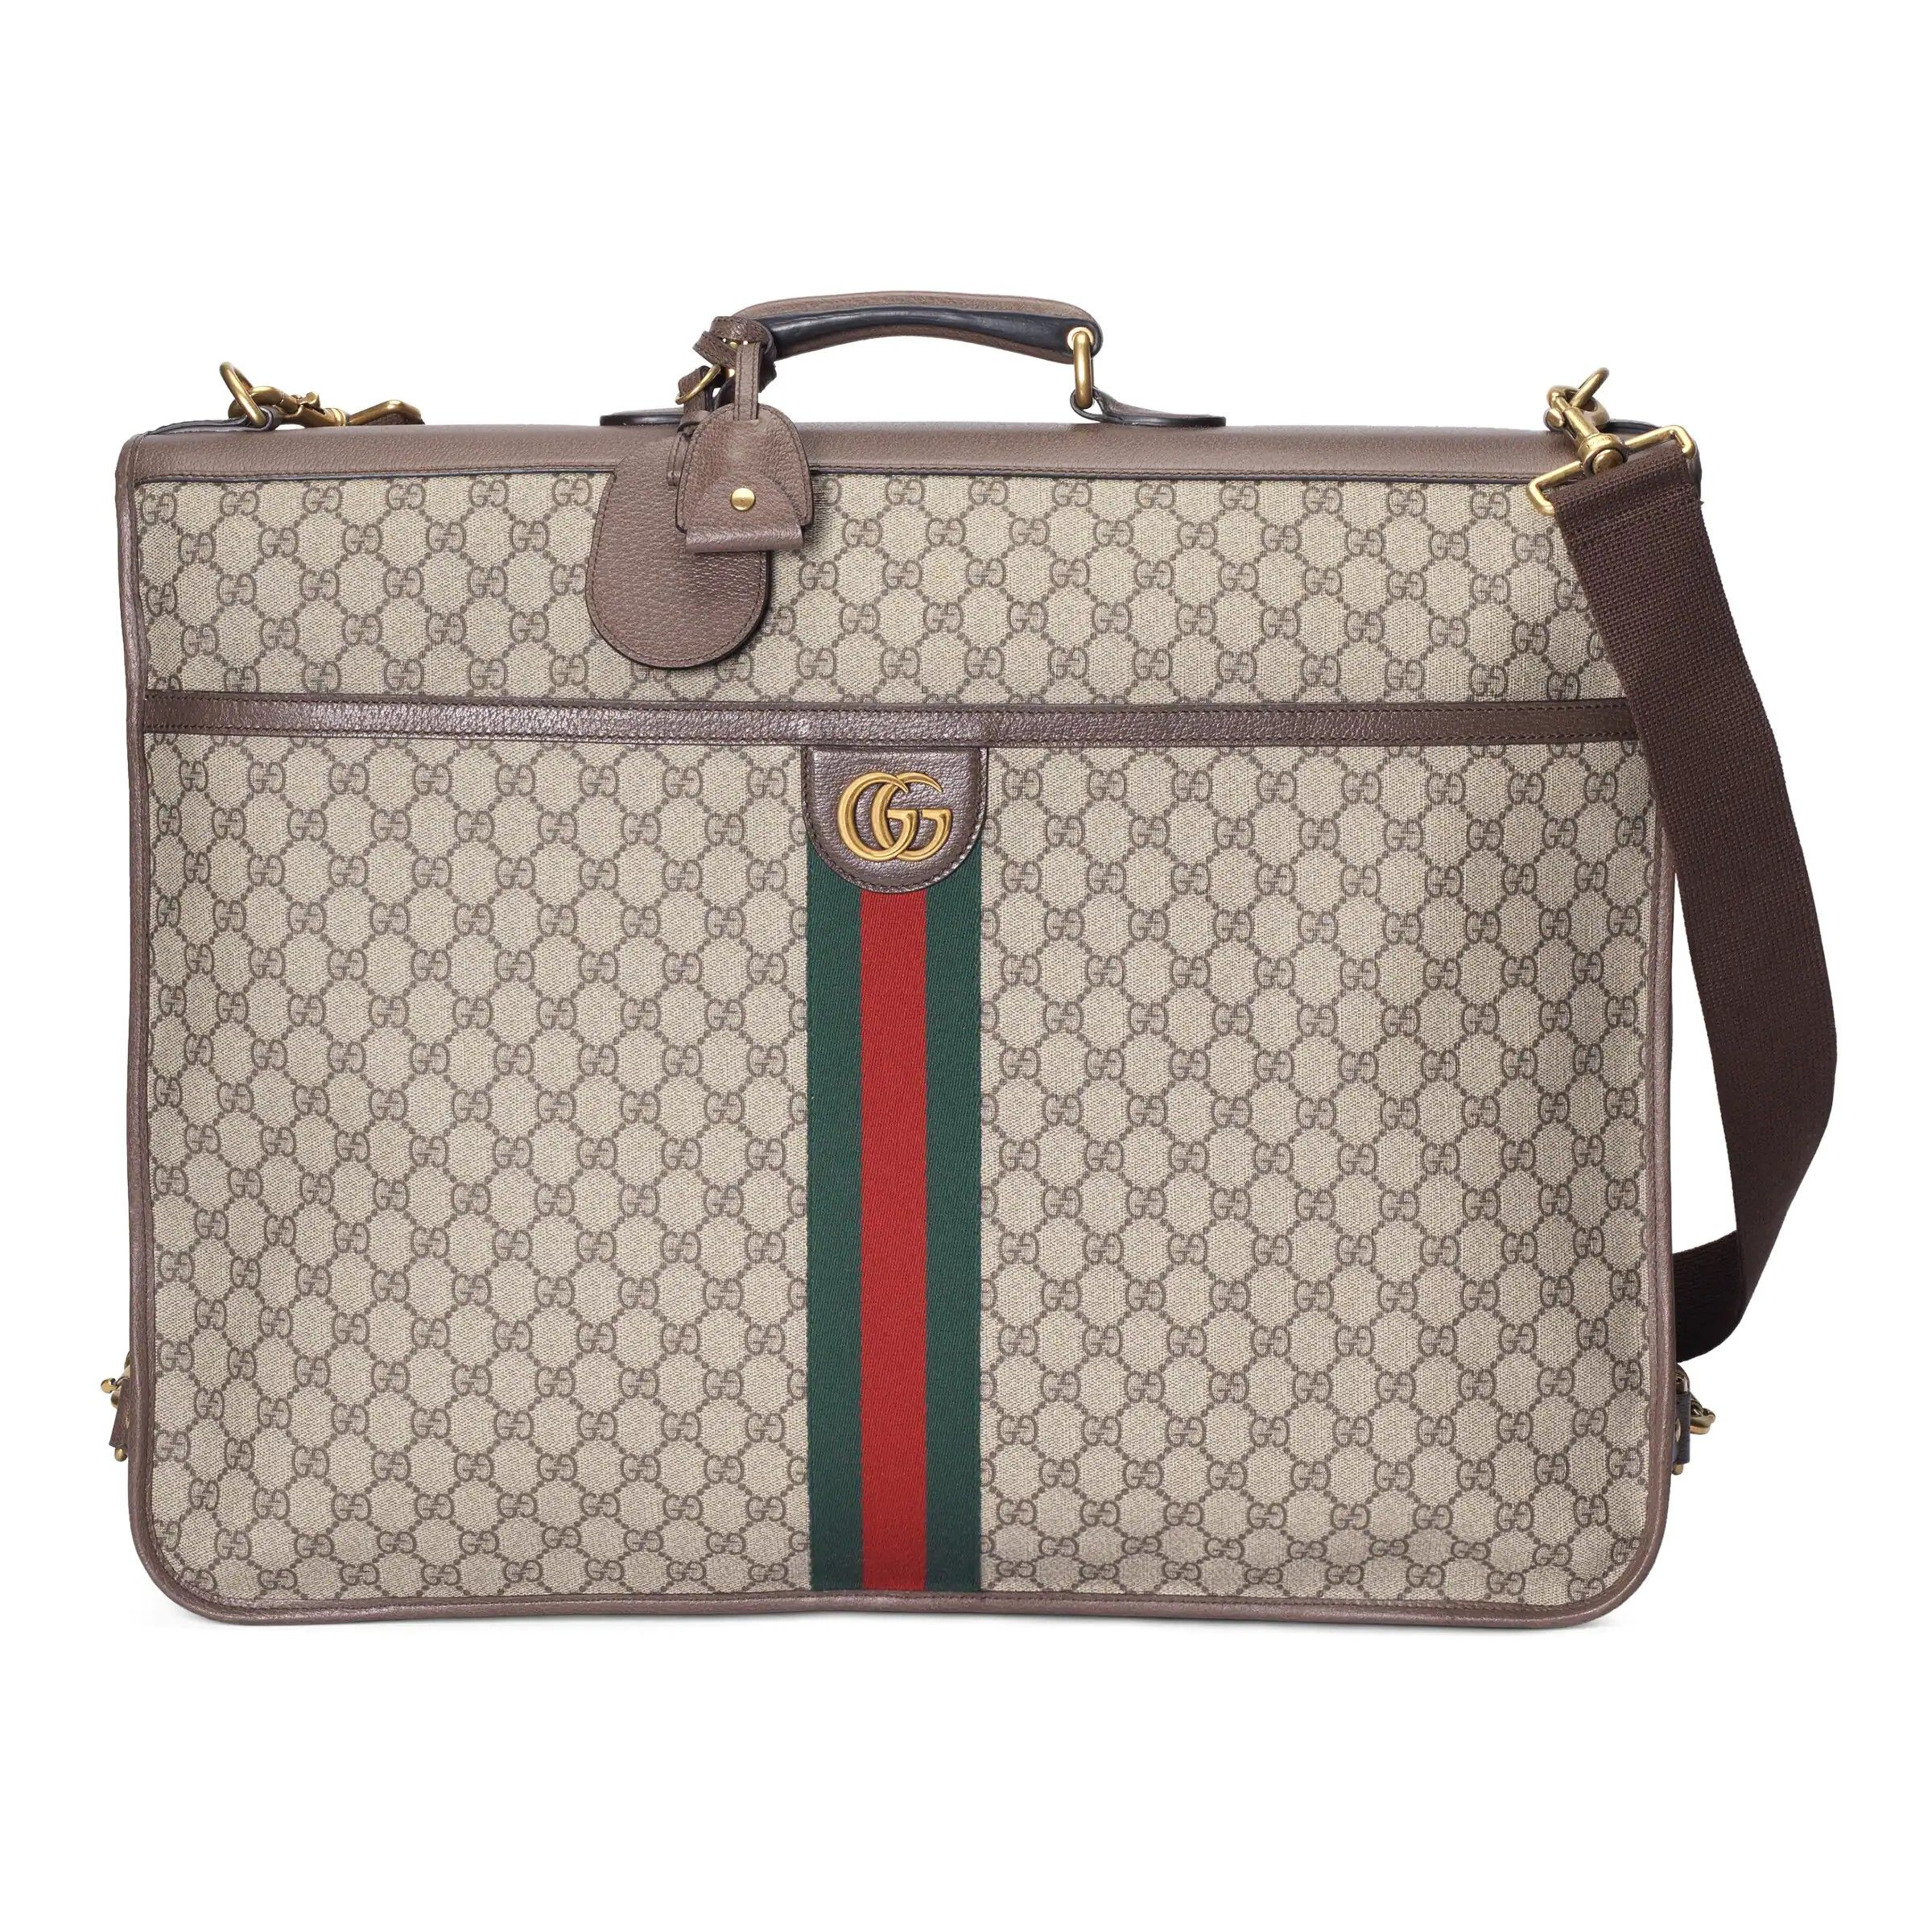Gucci: (104, 285, 1743, 1619), (720, 701, 1113, 1619), (1118, 824, 1633, 1511), (791, 740, 1031, 876)
